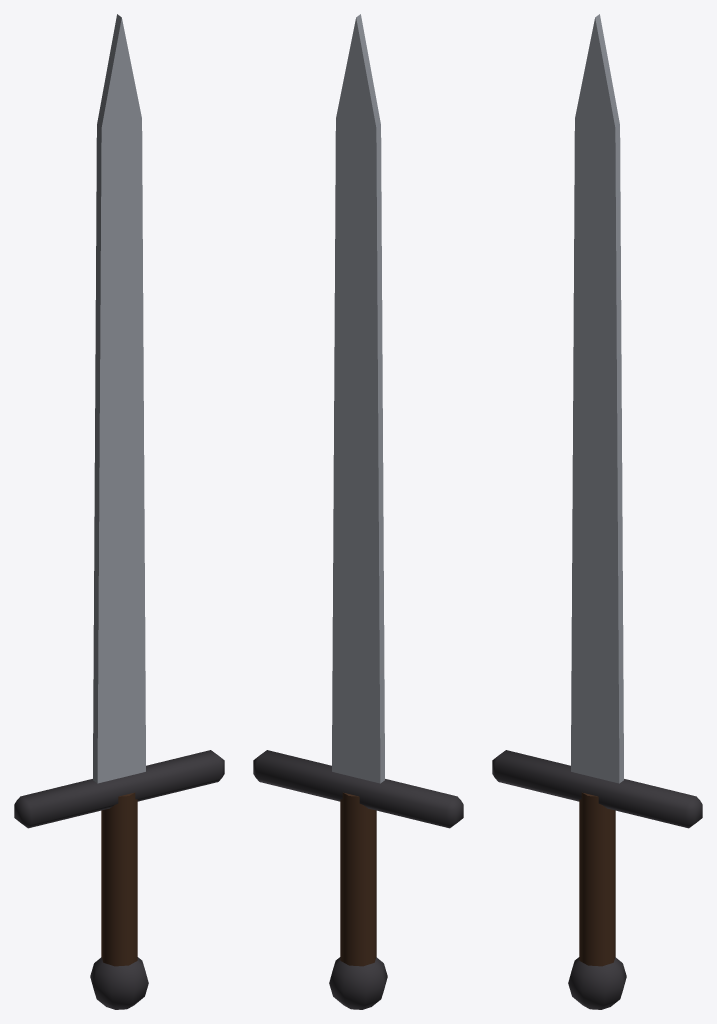
The model's file is sword.glb.
3 renders of one model, left to right at view 1: azimuth 30°, elevation 25°; view 2: azimuth 150°, elevation 25°; view 3: azimuth 330°, elevation 25°, orthographic.
Visible parts, largest first — view 1: sword; view 2: sword; view 3: sword.
Boxes of the visible parts, bbox=[...] form: sword: bbox=[14, 14, 224, 1009]; sword: bbox=[253, 14, 463, 1009]; sword: bbox=[492, 14, 702, 1009].
Bounding box in the file's own units: 0.2 × 0.936 × 0.052.
